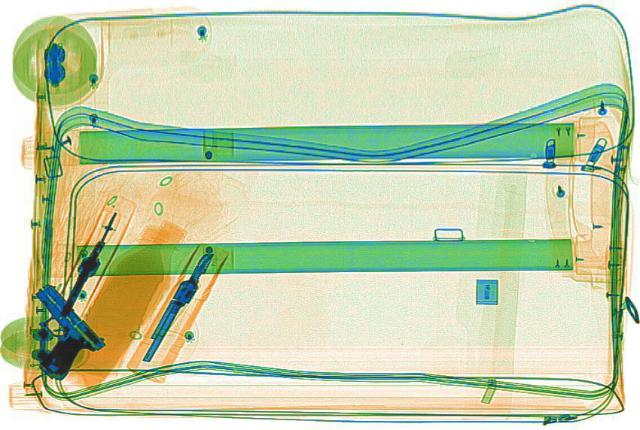Gun: (131, 248, 221, 363), (9, 281, 111, 374), (49, 208, 123, 318)
